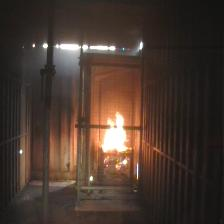fire: (100, 113, 128, 153)
